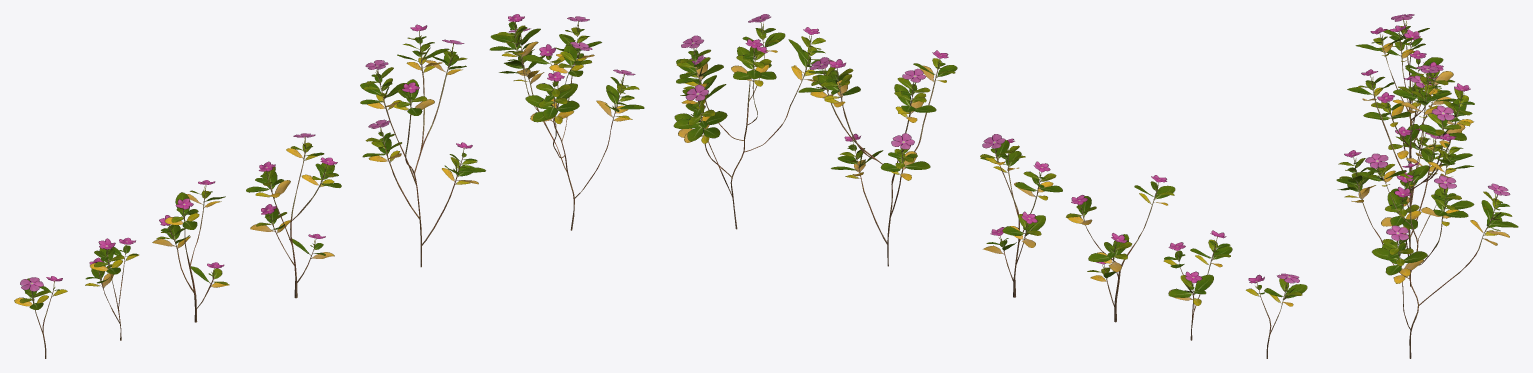
File: ph_periwinkle_plant.glb
3 renders of one model, left to right at view 1: azimuth 30°, elevation 25°; view 2: azimuth 150°, elevation 25°; view 3: azimuth 270°, elevation 25°, orthographic. The views are drawn at different scales.
Visible parts, largest first — view 1: periwinkle_plant_04_LOD0; view 2: periwinkle_plant_04_LOD0; view 3: periwinkle_plant_04_LOD0.
Boxes of the visible parts, x1,y1,x2,y2 form: periwinkle_plant_04_LOD0: [14, 14, 644, 358]; periwinkle_plant_04_LOD0: [673, 14, 1307, 358]; periwinkle_plant_04_LOD0: [1336, 14, 1518, 358].
Size of the model in its own units: 1.24 by 0.4107 by 0.3208.
1 material, 1 textured.
